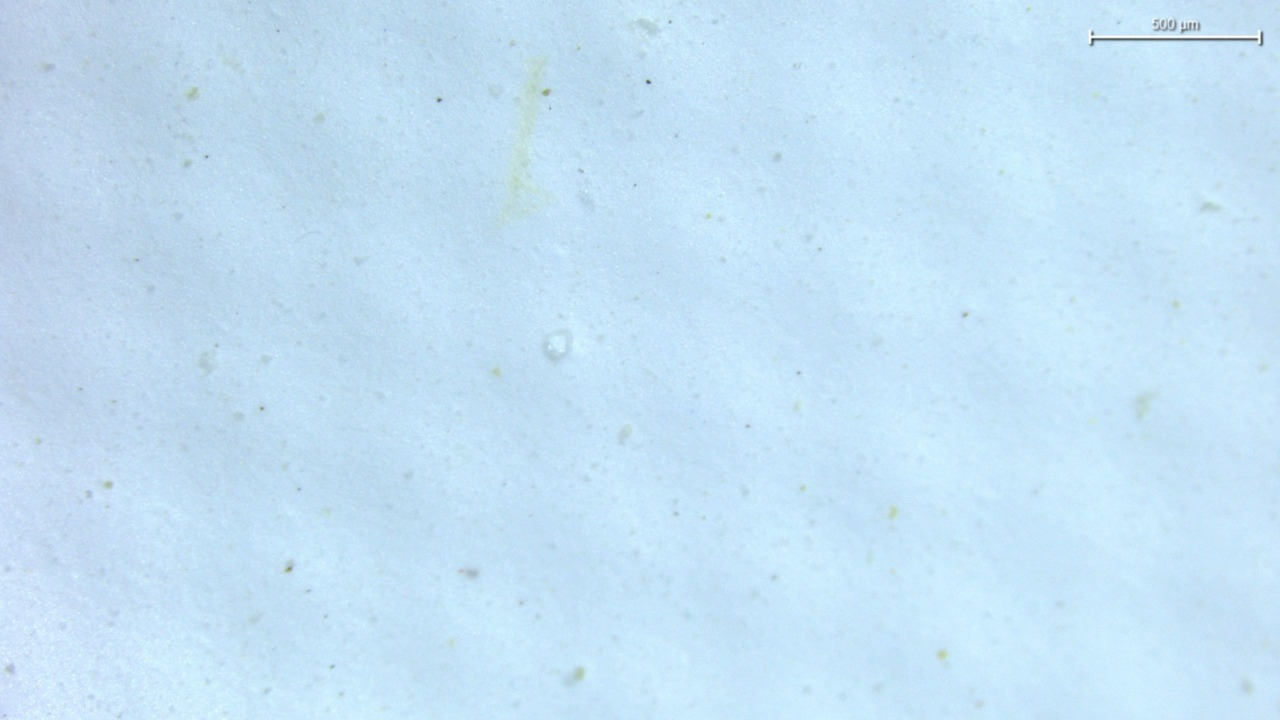microplastic_fragment: (544, 329, 572, 361)
